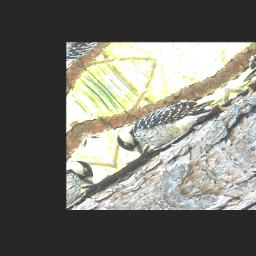Woodpecker: (110, 80, 227, 165)
